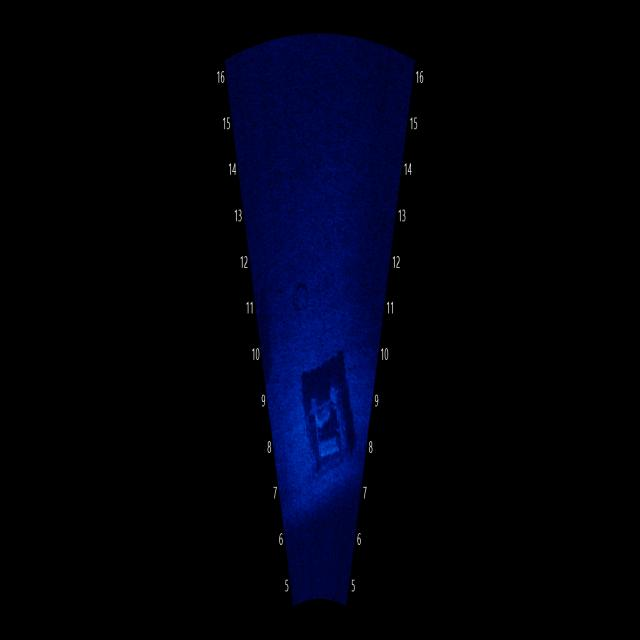square: (292, 341, 364, 500)
